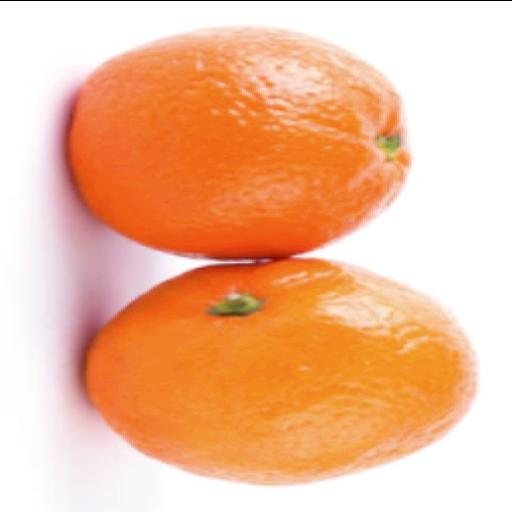orange: (84, 259, 474, 484), (68, 27, 408, 259)
